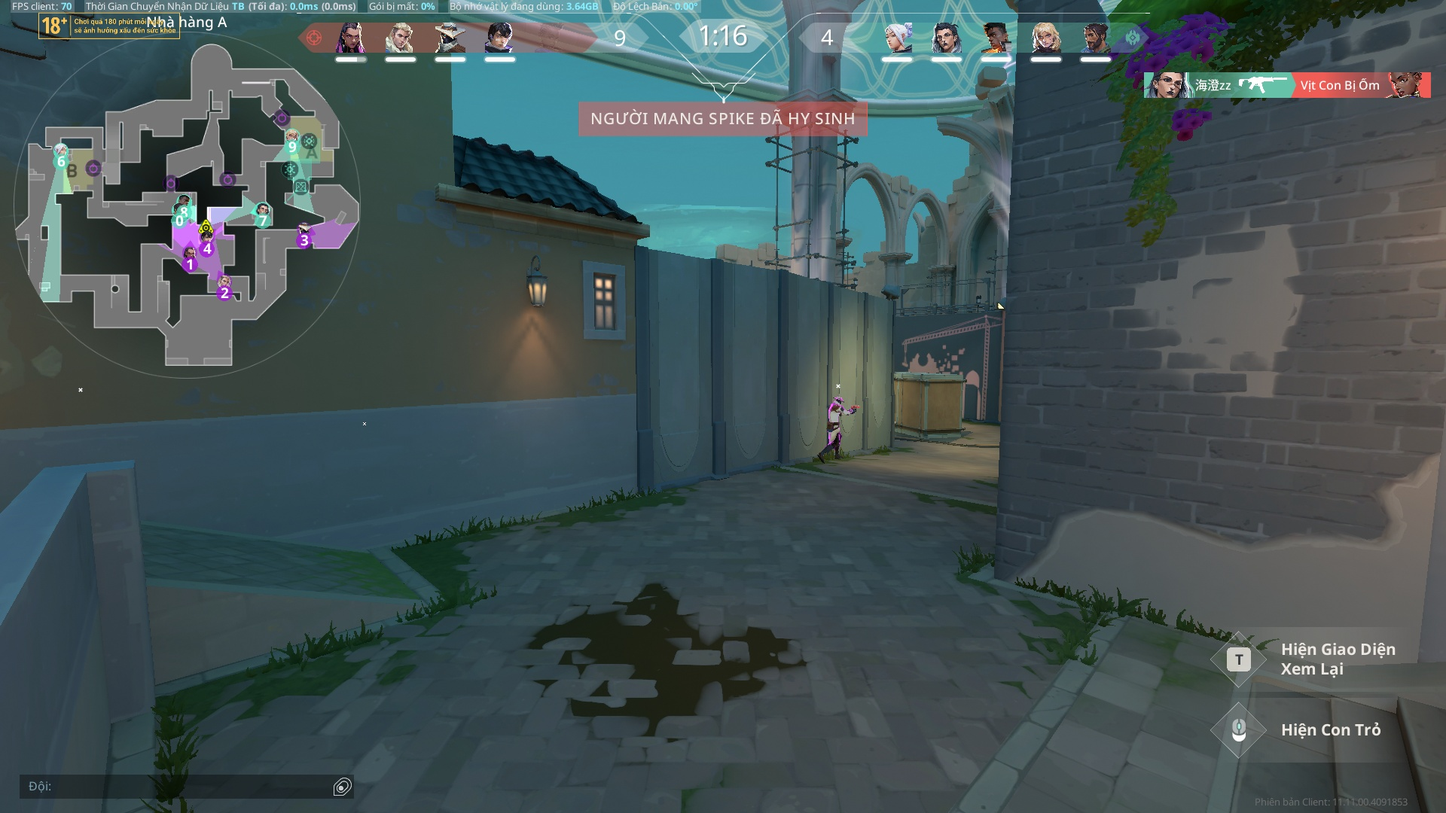body: (828, 401, 841, 422)
head: (833, 394, 844, 403)
